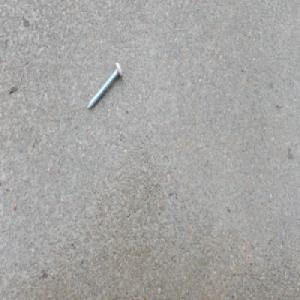Nail: (84, 59, 122, 112)
